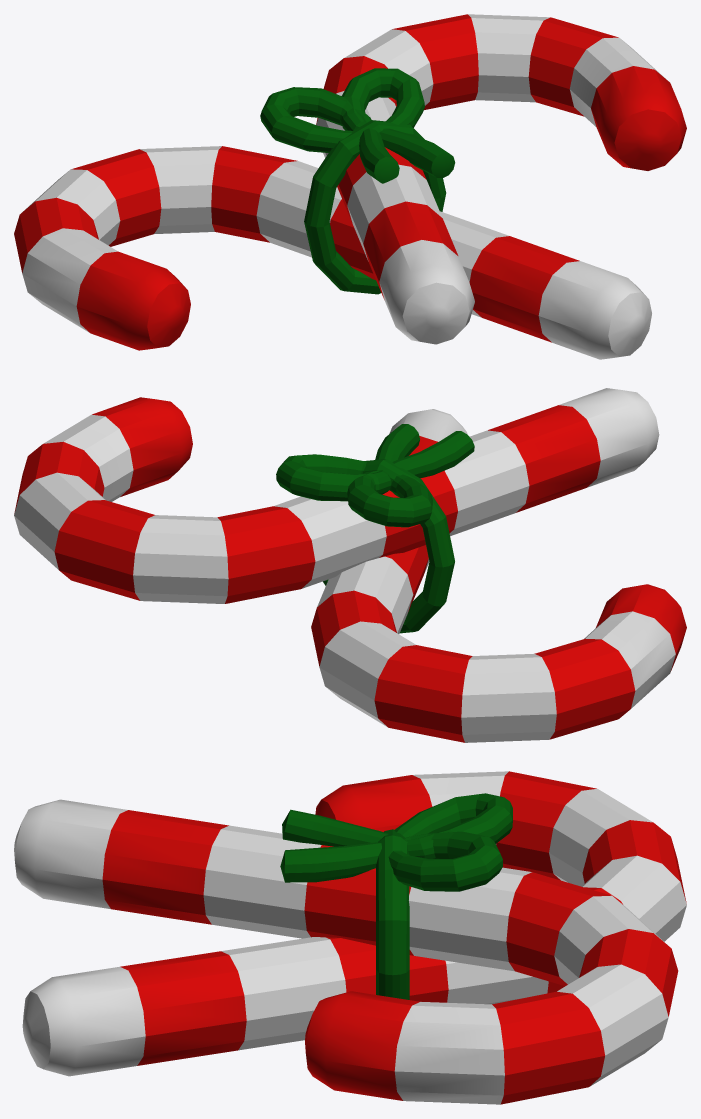
Rendered from Candycanes.fbx.
3 renders of one model, top to bottom at view 1: azimuth 30°, elevation 25°; view 2: azimuth 150°, elevation 25°; view 3: azimuth 270°, elevation 25°, orthographic. The views are drawn at different scales.
Parts seen in each view (by area): view 1: Candycanes; view 2: Candycanes; view 3: Candycanes.
Part boxes in pixels (x1,y1,x2,y2): Candycanes: (14,14,686,359); Candycanes: (14,388,686,742); Candycanes: (14,771,686,1104).
Bounding box in the file's own units: 58.35 × 16.83 × 47.78.
